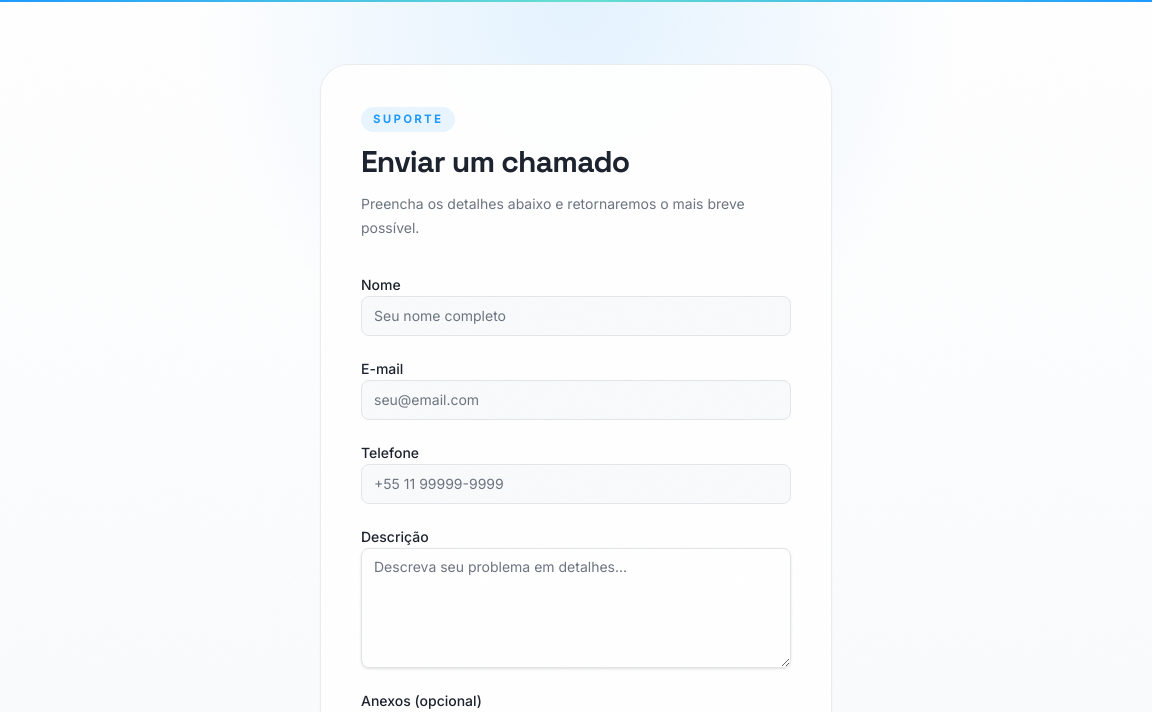
Test case: PublicTicketPage › displays ticket code on successful submission
Type "Jane" into the field labelled "Nome" at coordinates (576, 316), box [361,296,791,336]
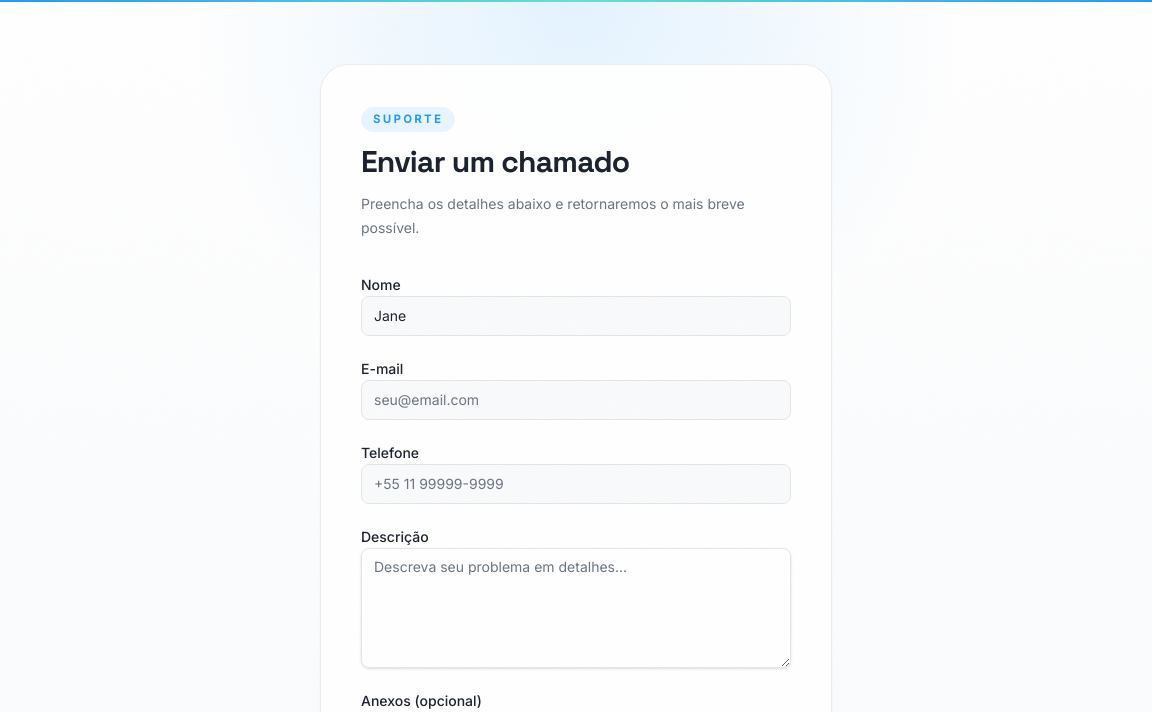
Type "jane@test.com" into the field labelled "E-mail" at coordinates (576, 400), box [361,380,791,420]
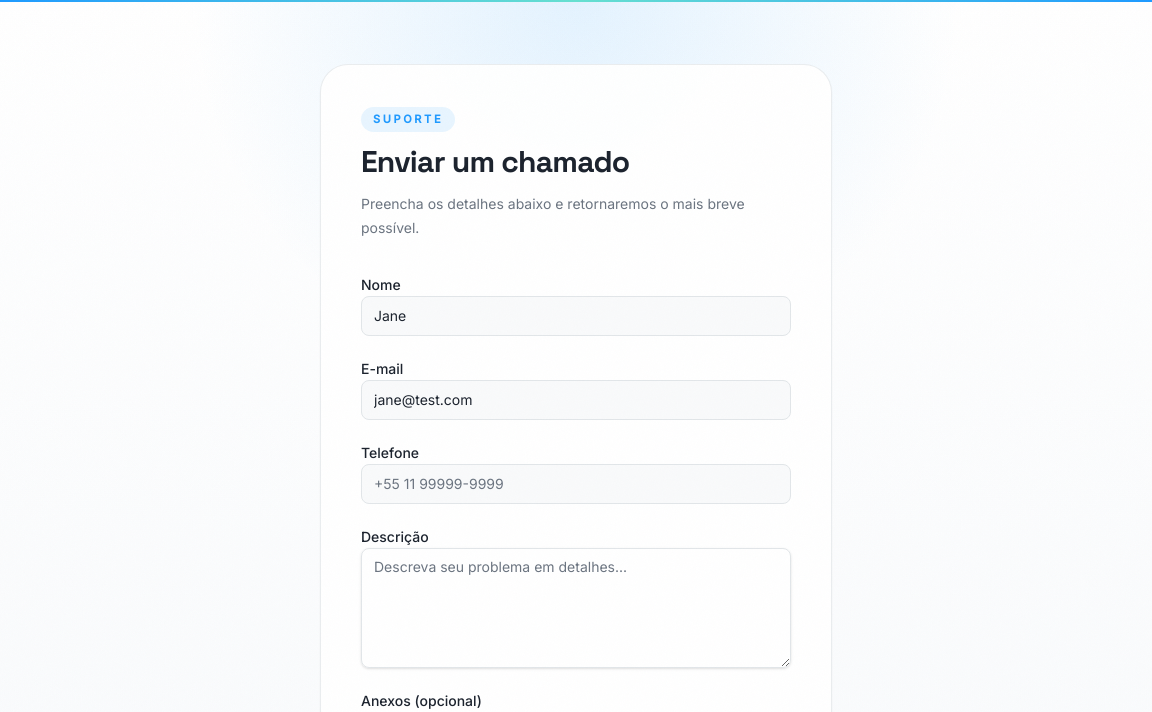
Type "123456" into the field labelled "Telefone" at coordinates (576, 484), box [361,464,791,504]
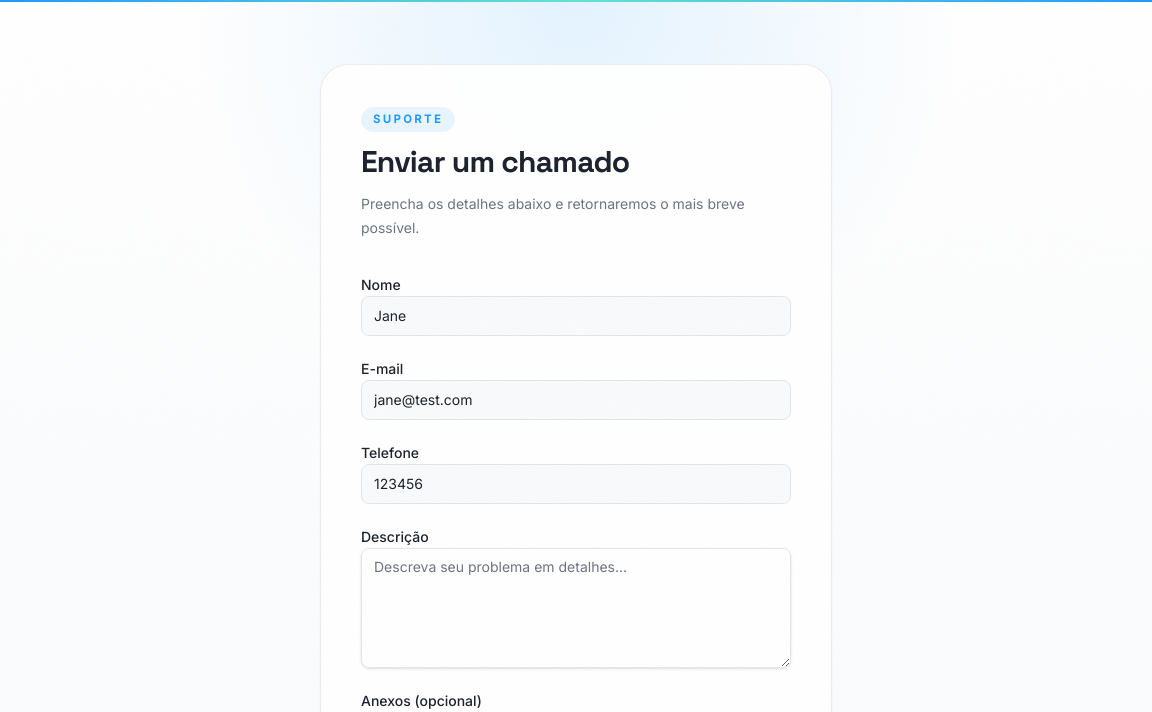
Type "Help needed" into the text box labelled "Descrição" at coordinates (576, 608), box [361,548,791,668]
(page scrolled)
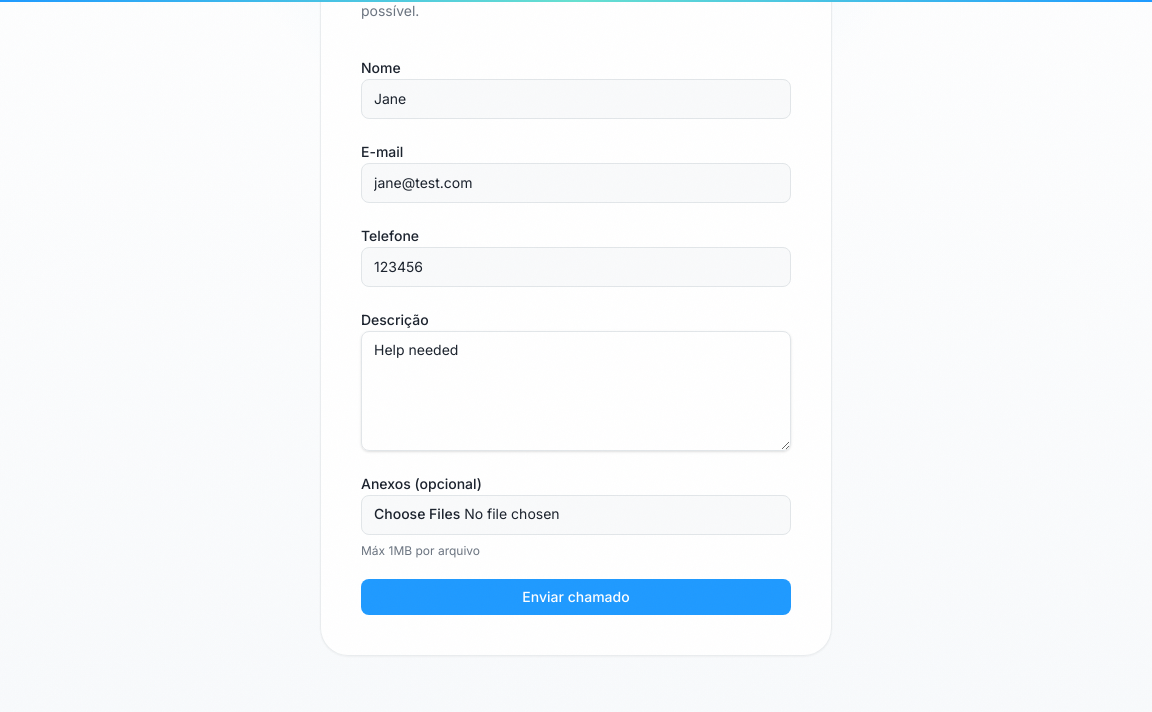
Click the button "Enviar chamado" at coordinates (576, 596), box [361,578,791,614]
(page scrolled)
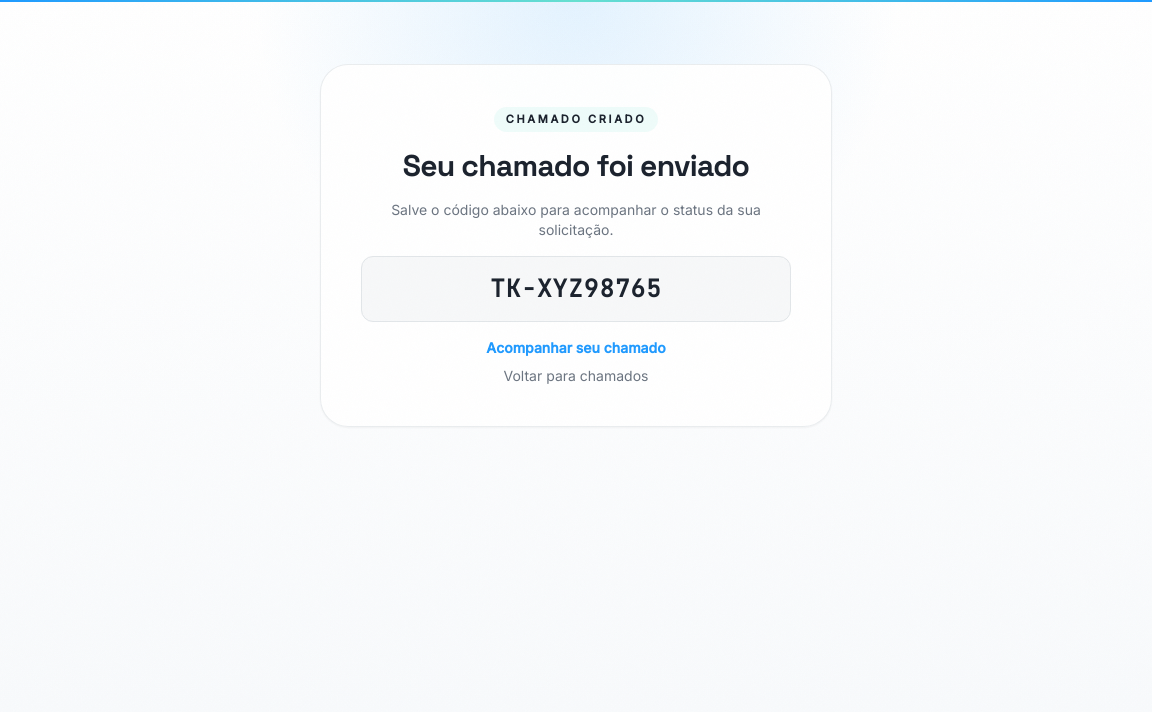
Check: the text with test id "ticket-code" reads "TK-XYZ98765", box [490,272,662,304]
Check: the heading "Seu chamado foi enviado" is shown, box [403,146,749,184]
